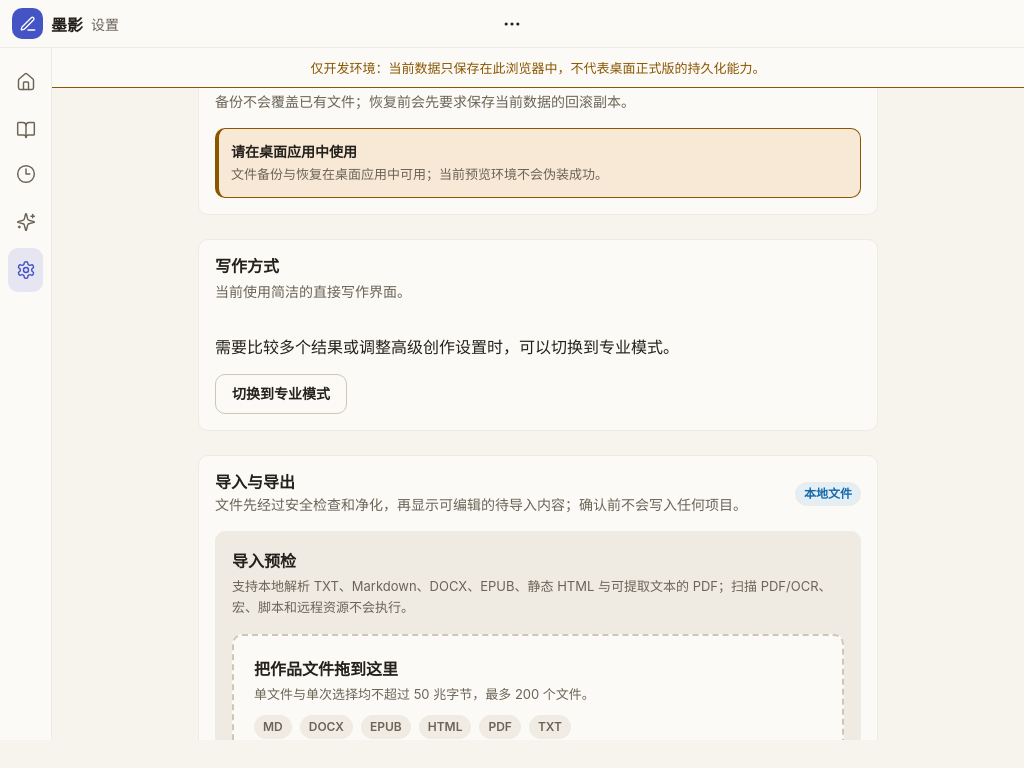
Scenario: SettingsPage model routing › switches the authoritative writing experience without invoking a provider
This screenshot has width=1024, height=768.
(page scrolled)
Expected: the heading "备份与恢复" is shown, [215,70,295,90]
Expected: the heading "写作方式" is shown, [215,256,279,276]
Click the button "切换到专业模式".
click(281, 394)  # box [215,374,347,414]
(page scrolled)
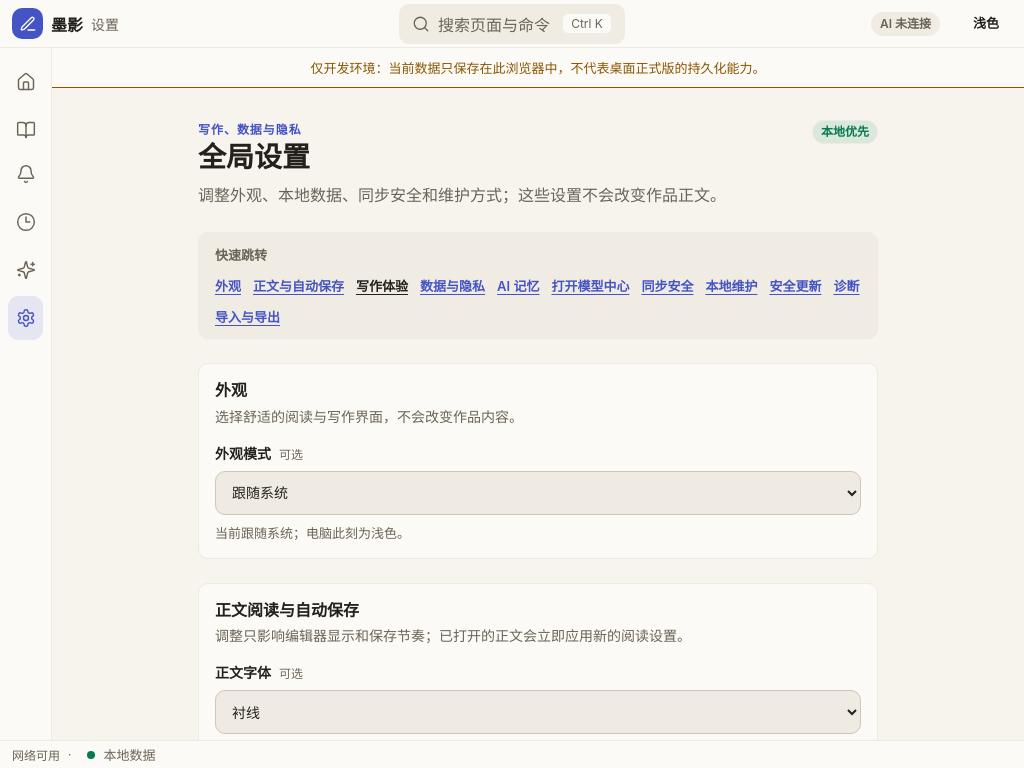
Now the heading "全局设置" is shown, box [198,140,310,174]
